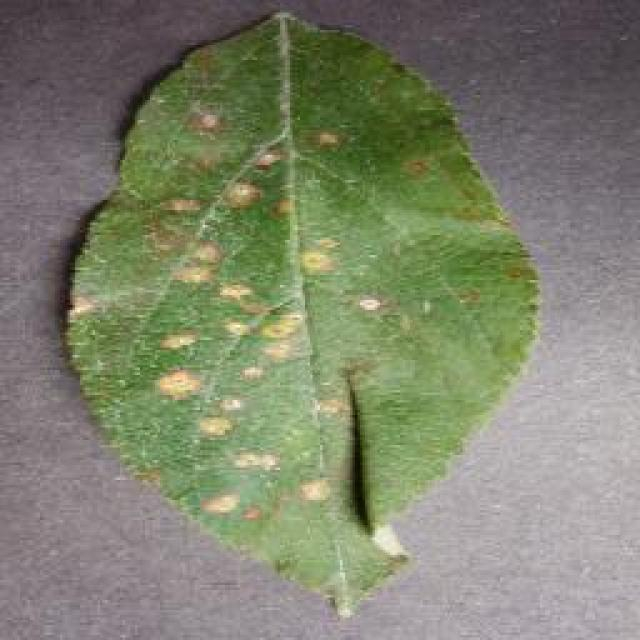apple cedar apple rust: (60, 10, 542, 618)
